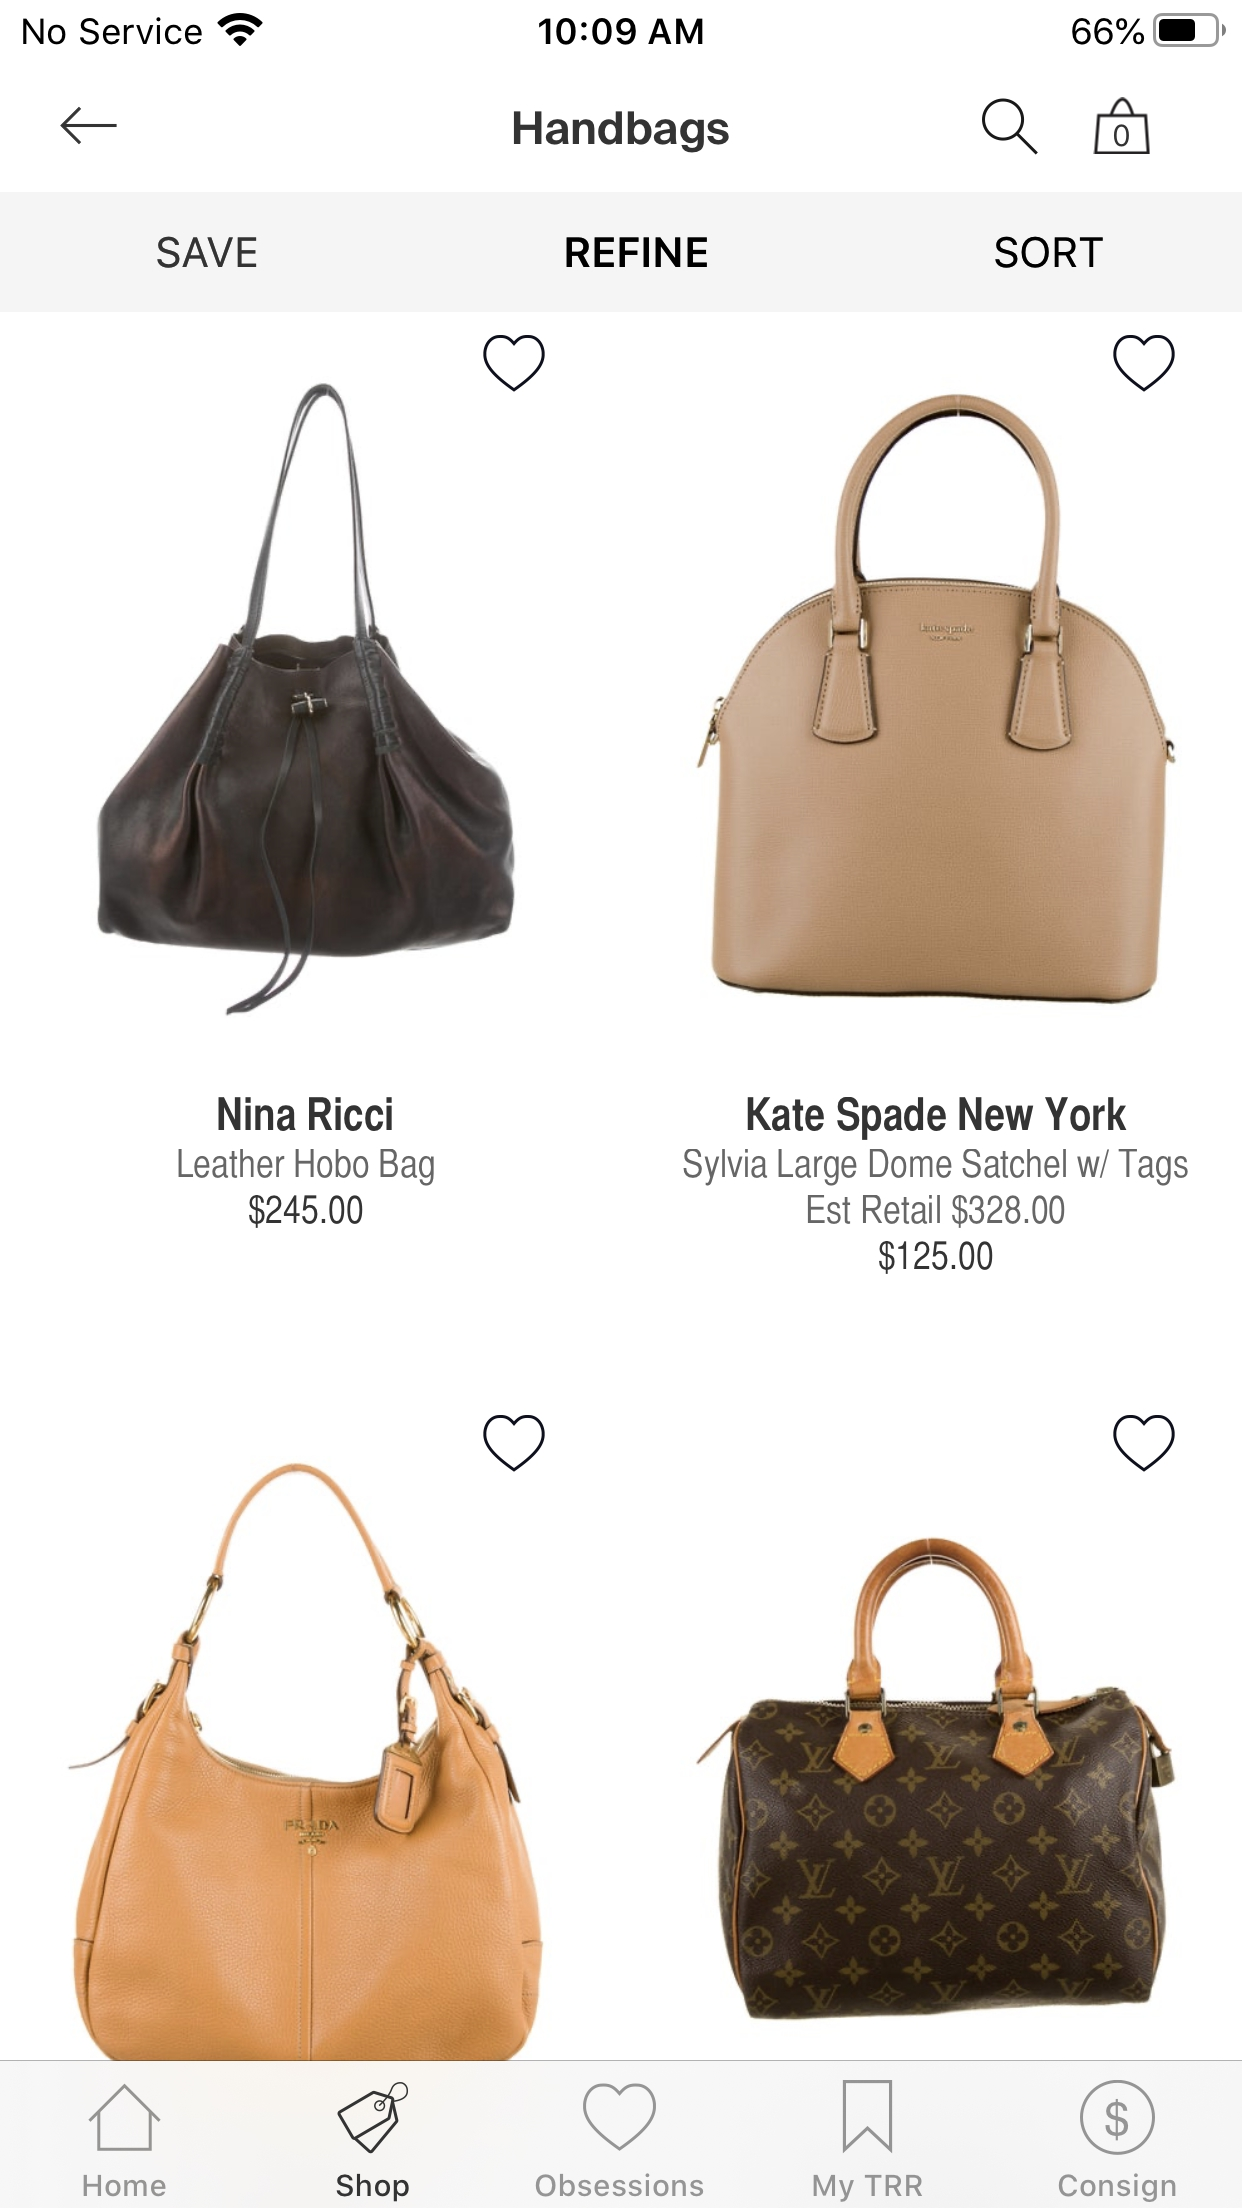Icon: (1080, 2081, 1156, 2153), (337, 2082, 408, 2153), (582, 2084, 657, 2150), (88, 2084, 161, 2150), (842, 2081, 893, 2153), (482, 1415, 544, 1473), (1113, 1415, 1175, 1473), (1113, 335, 1175, 391), (482, 335, 544, 391), (983, 99, 1037, 155), (61, 108, 117, 144)
Image: (698, 394, 1175, 1011), (65, 1463, 543, 2059), (97, 384, 519, 1016), (696, 1538, 1175, 2021)
Text: (682, 1149, 1187, 1228), (748, 1096, 1127, 1131), (177, 1149, 434, 1186), (513, 111, 729, 153), (218, 1096, 391, 1131), (566, 237, 707, 267), (535, 2173, 704, 2196), (880, 1240, 993, 1274), (249, 1195, 362, 1228), (995, 237, 1102, 268), (1059, 2172, 1175, 2200), (1093, 97, 1149, 155), (158, 237, 256, 268), (813, 2175, 922, 2202), (337, 2173, 409, 2202), (83, 2175, 165, 2197)
UpperTaskBar: (2, 2, 1242, 49)
